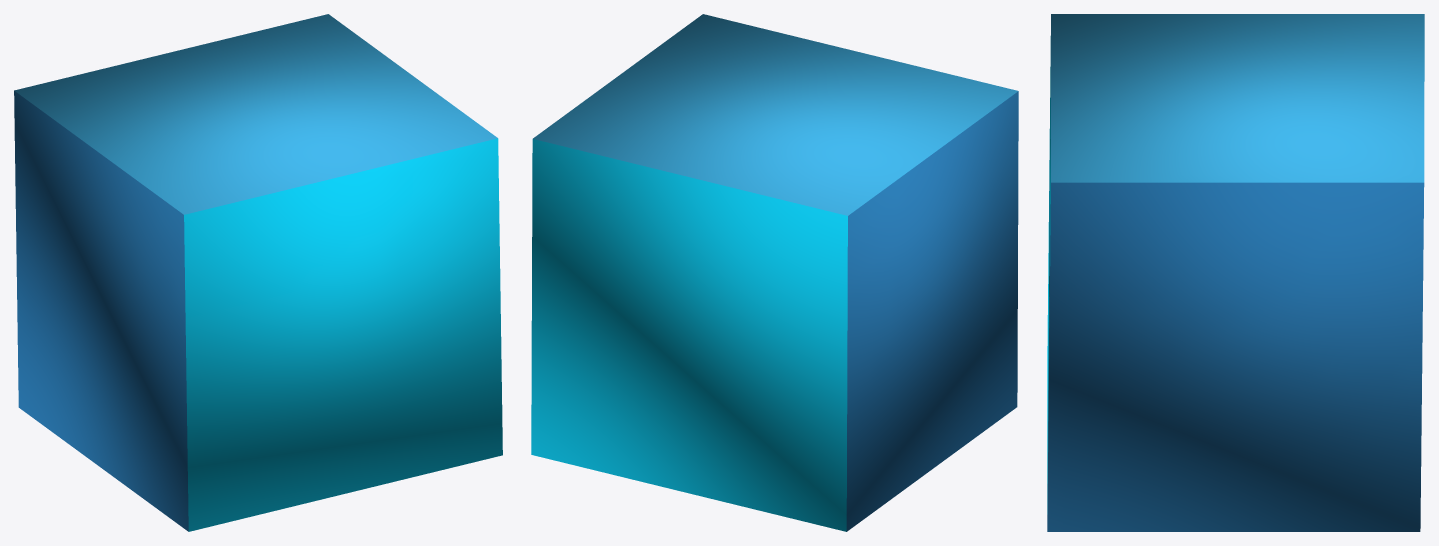
File: pvp_ zhuankuai_08.FBX
The picture shows the model from 3 angles, left to right: view 1: azimuth 30°, elevation 25°; view 2: azimuth 150°, elevation 25°; view 3: azimuth 270°, elevation 25°; orthographic projection. The views are drawn at different scales.
Visible parts, largest first — view 1: pvp_ zhuankuai_08; view 2: pvp_ zhuankuai_08; view 3: pvp_ zhuankuai_08.
Part boxes in pixels (x1,y1,x2,y2): pvp_ zhuankuai_08: (14,14,502,531); pvp_ zhuankuai_08: (531,14,1018,531); pvp_ zhuankuai_08: (1047,14,1424,531).
Size of the model in its own units: 0.1439 by 0.1372 by 0.1349.
